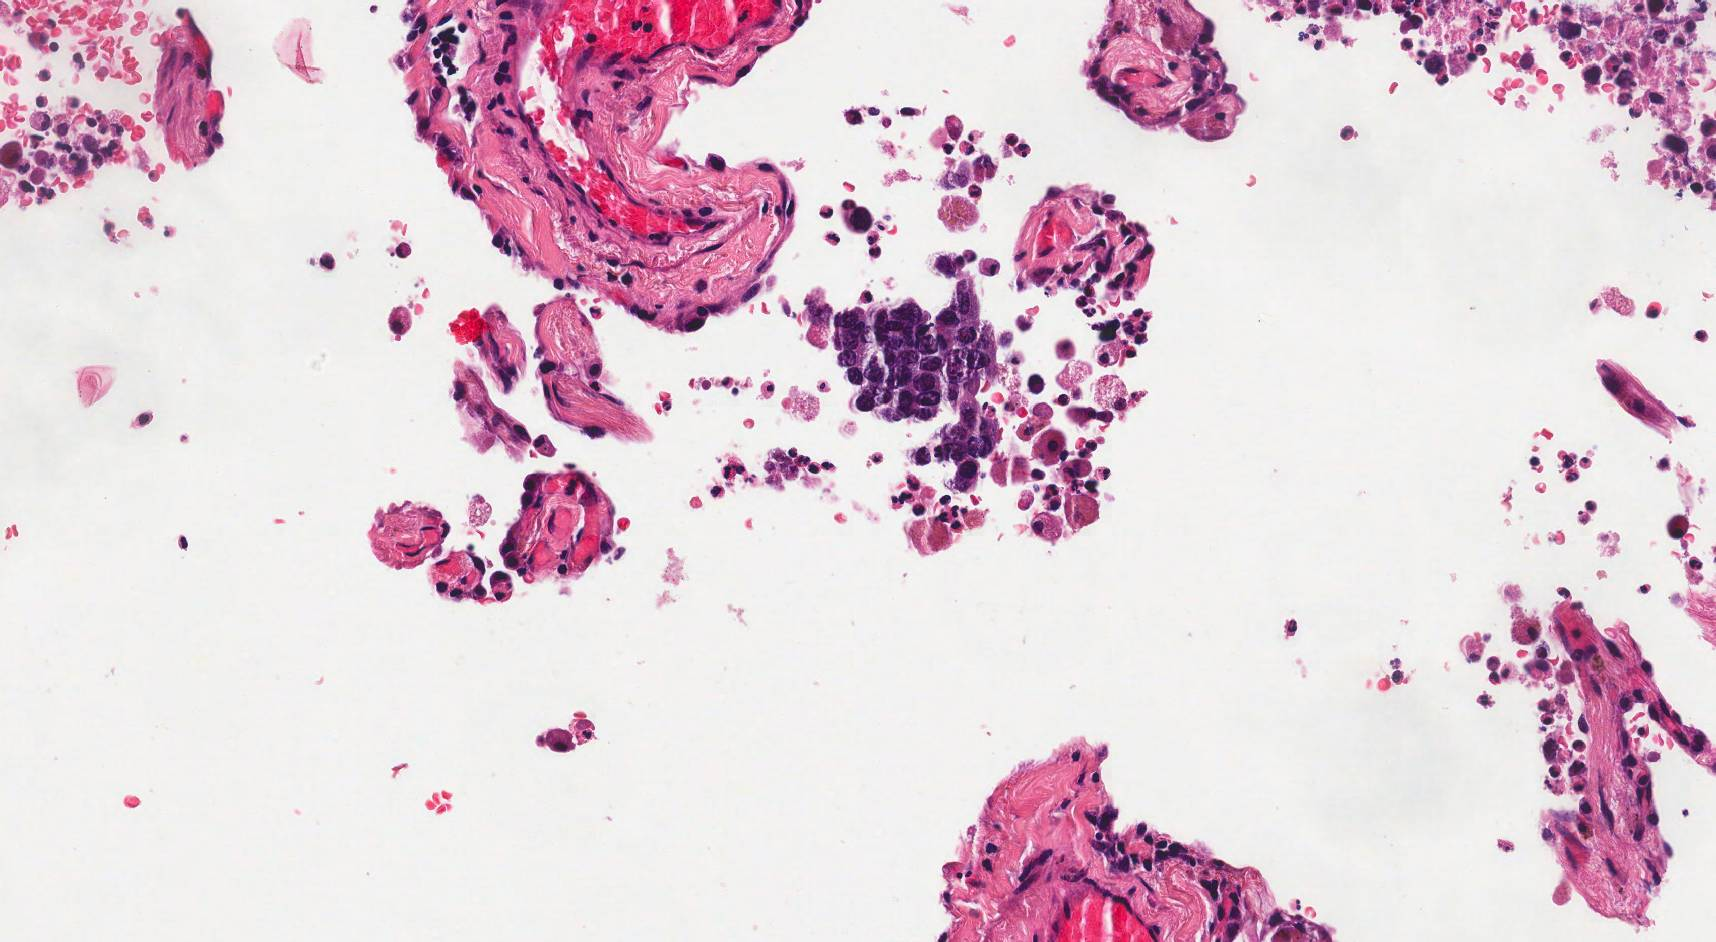stas: (829, 273, 1002, 493)
